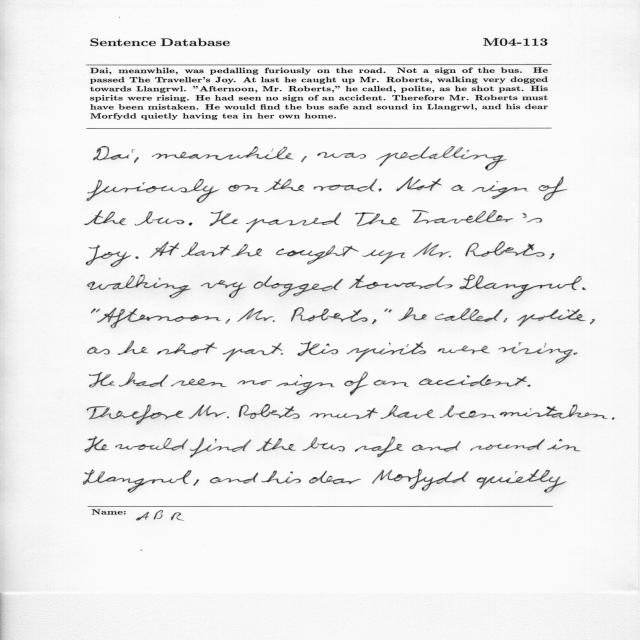word: (377, 146, 506, 171), (87, 179, 220, 203), (460, 275, 582, 300), (83, 469, 192, 493), (97, 308, 221, 329), (87, 275, 191, 298), (477, 469, 566, 493), (372, 469, 469, 491), (87, 404, 184, 425), (246, 212, 341, 233), (253, 275, 343, 297), (152, 147, 293, 161), (413, 210, 542, 224), (276, 245, 359, 265), (498, 342, 573, 364), (500, 404, 608, 419), (346, 342, 426, 362), (349, 275, 453, 289), (419, 375, 527, 387), (517, 309, 586, 327), (190, 438, 251, 458), (465, 242, 545, 257), (277, 375, 335, 395), (291, 307, 368, 322), (223, 343, 282, 362), (355, 437, 404, 458), (472, 181, 528, 199), (87, 245, 132, 267), (435, 308, 503, 322), (116, 438, 189, 451), (239, 404, 300, 419), (470, 439, 545, 451), (314, 179, 378, 192), (201, 280, 247, 298), (157, 342, 217, 355), (381, 405, 435, 419), (310, 408, 378, 419), (439, 405, 496, 418), (135, 211, 184, 226), (182, 242, 231, 257), (119, 372, 168, 387), (539, 177, 568, 201), (309, 471, 361, 484), (362, 250, 405, 265), (302, 437, 345, 452), (396, 177, 442, 191), (355, 212, 400, 226), (85, 210, 126, 225), (298, 341, 339, 356), (188, 404, 229, 419), (93, 146, 135, 160), (344, 372, 369, 395), (413, 243, 451, 258), (412, 441, 461, 452), (237, 308, 275, 322), (210, 473, 258, 484), (264, 179, 304, 192), (256, 438, 296, 451), (262, 471, 301, 484), (437, 345, 490, 354), (209, 211, 238, 227), (150, 242, 179, 258), (171, 379, 227, 387), (118, 341, 148, 355), (547, 439, 581, 451), (398, 307, 427, 321), (231, 244, 262, 257), (89, 372, 115, 387), (85, 437, 109, 453), (317, 152, 366, 159), (374, 380, 409, 387), (228, 185, 259, 192), (88, 347, 110, 355), (238, 380, 272, 385), (451, 185, 465, 191), (92, 309, 101, 314), (193, 479, 199, 486), (134, 157, 139, 163), (301, 156, 306, 162), (549, 253, 554, 259), (385, 308, 392, 312), (225, 319, 230, 324), (590, 319, 595, 324), (372, 319, 376, 324), (378, 188, 382, 192), (504, 318, 508, 322), (189, 222, 192, 226), (135, 256, 139, 259), (582, 287, 586, 290), (574, 352, 578, 355), (528, 385, 531, 387), (612, 417, 614, 420), (281, 353, 283, 355)
